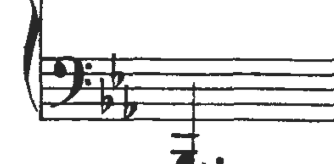bass_clef: (49, 43, 95, 115)
flat: (93, 74, 116, 118), (120, 83, 142, 124), (110, 48, 126, 92)
